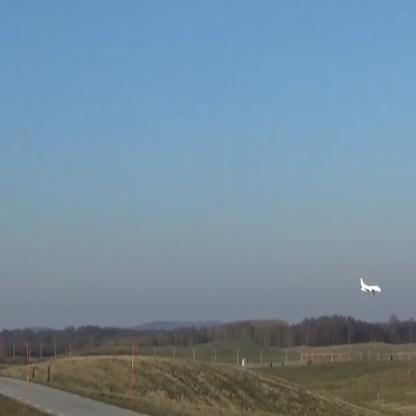CIV_Plane: (360, 276, 383, 294)
